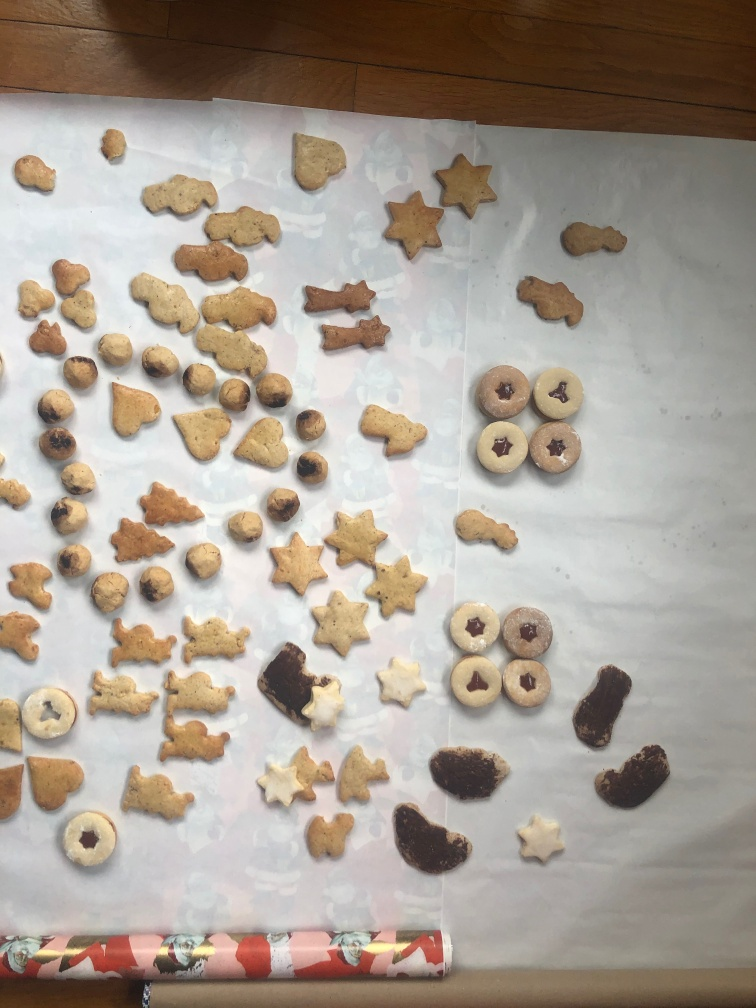angel: (354, 396, 430, 462)
christmas shortbread with jam: (471, 418, 531, 484), (20, 683, 83, 745), (531, 362, 592, 425), (471, 360, 529, 426), (447, 653, 508, 711), (59, 809, 119, 867), (443, 600, 501, 657), (532, 419, 582, 485), (503, 657, 558, 716), (503, 606, 553, 667)
christmas tree: (106, 514, 178, 567), (133, 480, 204, 529)
flake: (13, 275, 55, 321), (61, 289, 103, 334), (49, 255, 88, 302)
heart: (284, 124, 349, 196), (103, 374, 165, 448), (169, 396, 232, 468), (23, 747, 83, 815), (232, 417, 291, 473), (1, 754, 27, 831), (1, 694, 31, 756)
lamb: (288, 740, 342, 806), (336, 743, 393, 805), (302, 805, 358, 865), (5, 554, 58, 614), (1, 610, 44, 672)
santa claus: (113, 760, 198, 835), (127, 266, 202, 340), (513, 264, 588, 338), (105, 614, 187, 677), (153, 708, 232, 773), (82, 661, 159, 726), (139, 167, 225, 222), (159, 664, 239, 722), (197, 282, 284, 335), (192, 321, 272, 378), (177, 612, 256, 669), (202, 202, 284, 256), (171, 239, 254, 289)
shooting star: (316, 312, 399, 361), (300, 272, 381, 319)
snowball: (94, 324, 142, 373), (59, 455, 103, 507), (257, 482, 304, 528), (254, 366, 299, 413), (49, 534, 96, 579), (43, 493, 92, 533), (141, 339, 180, 389), (38, 426, 86, 466), (292, 447, 330, 496), (180, 538, 221, 582), (94, 568, 134, 610), (219, 373, 254, 421), (58, 354, 98, 396), (35, 386, 78, 425), (222, 505, 264, 542), (183, 357, 218, 400), (292, 405, 327, 446), (141, 562, 175, 599)
snowman: (449, 506, 525, 555), (559, 215, 630, 264)
star: (378, 188, 449, 262), (432, 150, 501, 224), (304, 590, 376, 658), (321, 507, 394, 567), (364, 551, 426, 621), (265, 534, 333, 597), (510, 810, 570, 871), (375, 655, 428, 711)
weird #1: (384, 793, 480, 876), (427, 742, 514, 811), (569, 664, 633, 752), (596, 745, 670, 806), (258, 643, 313, 724)
